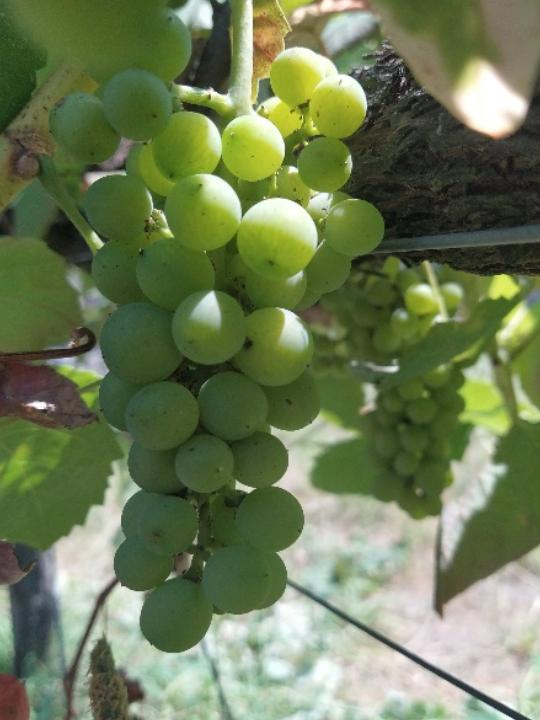grape: (42, 43, 389, 655)
